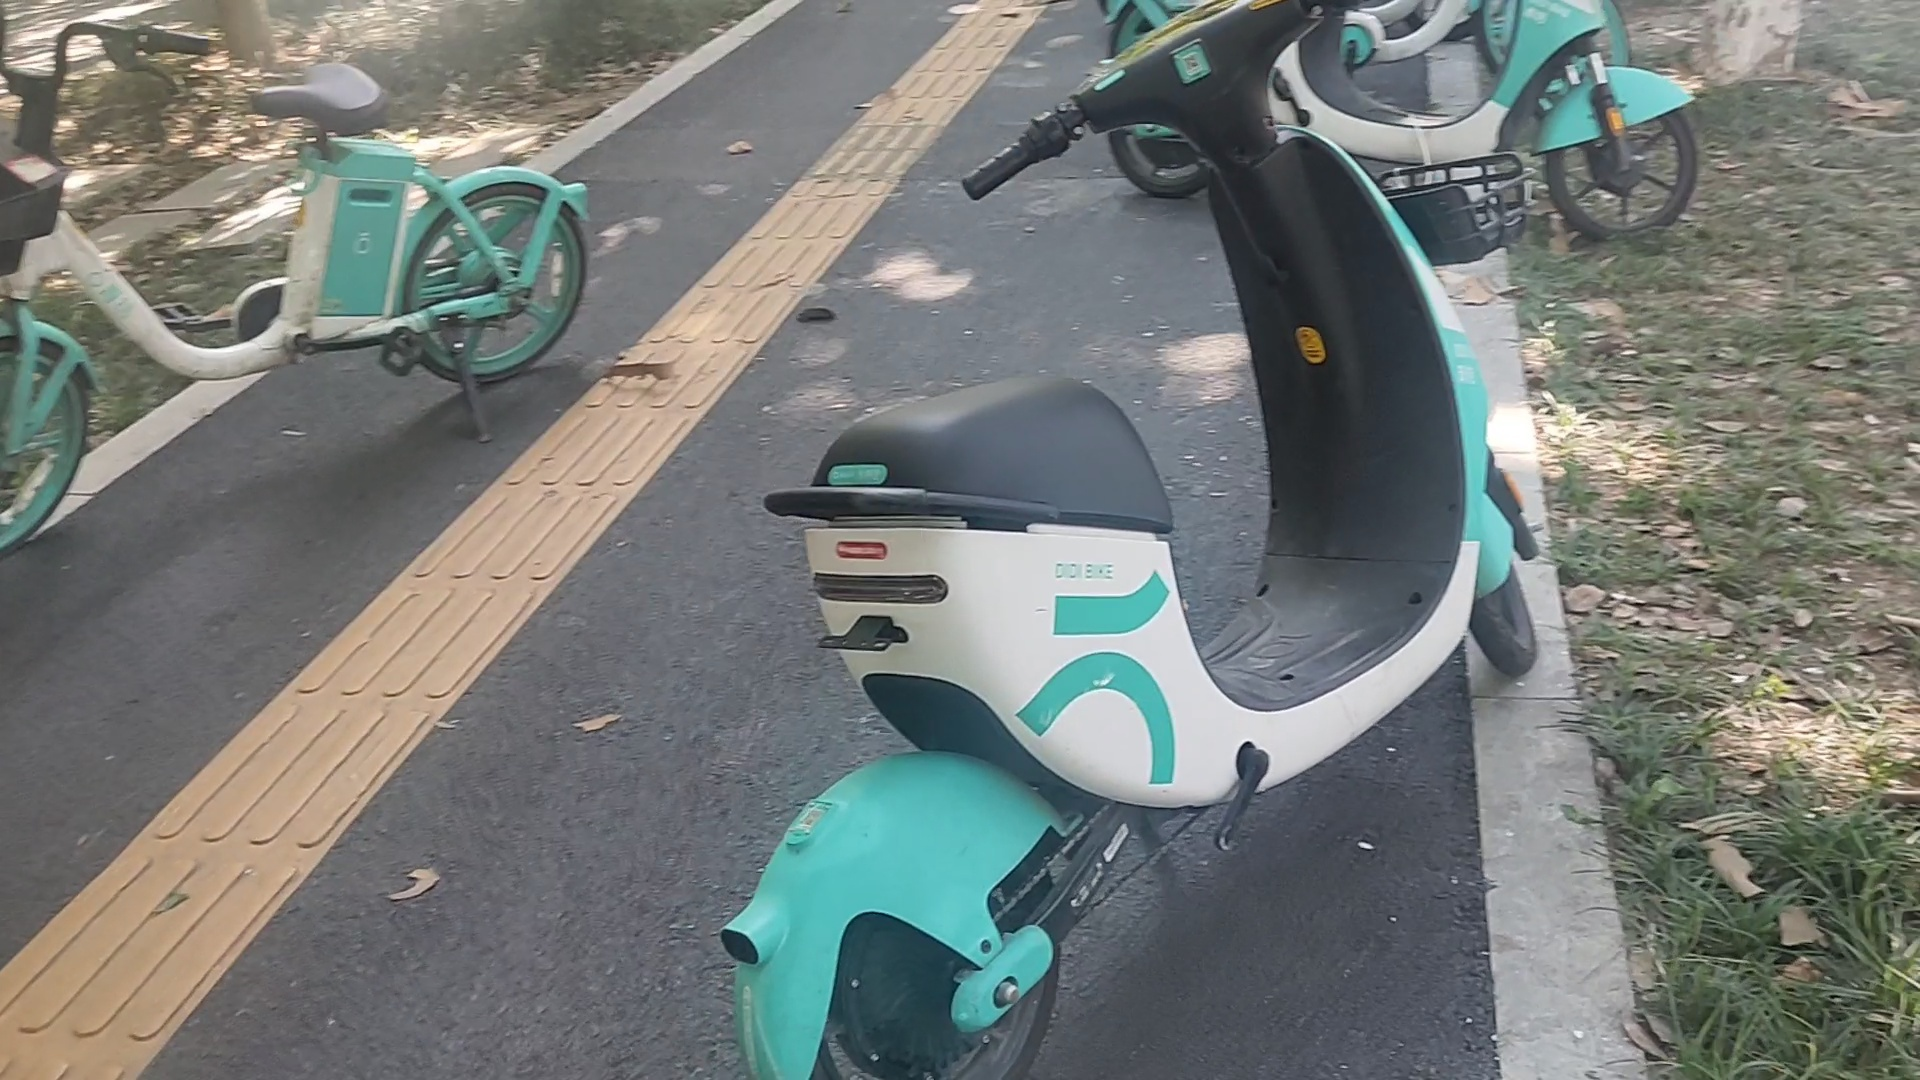non-vehicle: (736, 0, 1548, 1080), (0, 22, 595, 615), (1044, 3, 1648, 258)
